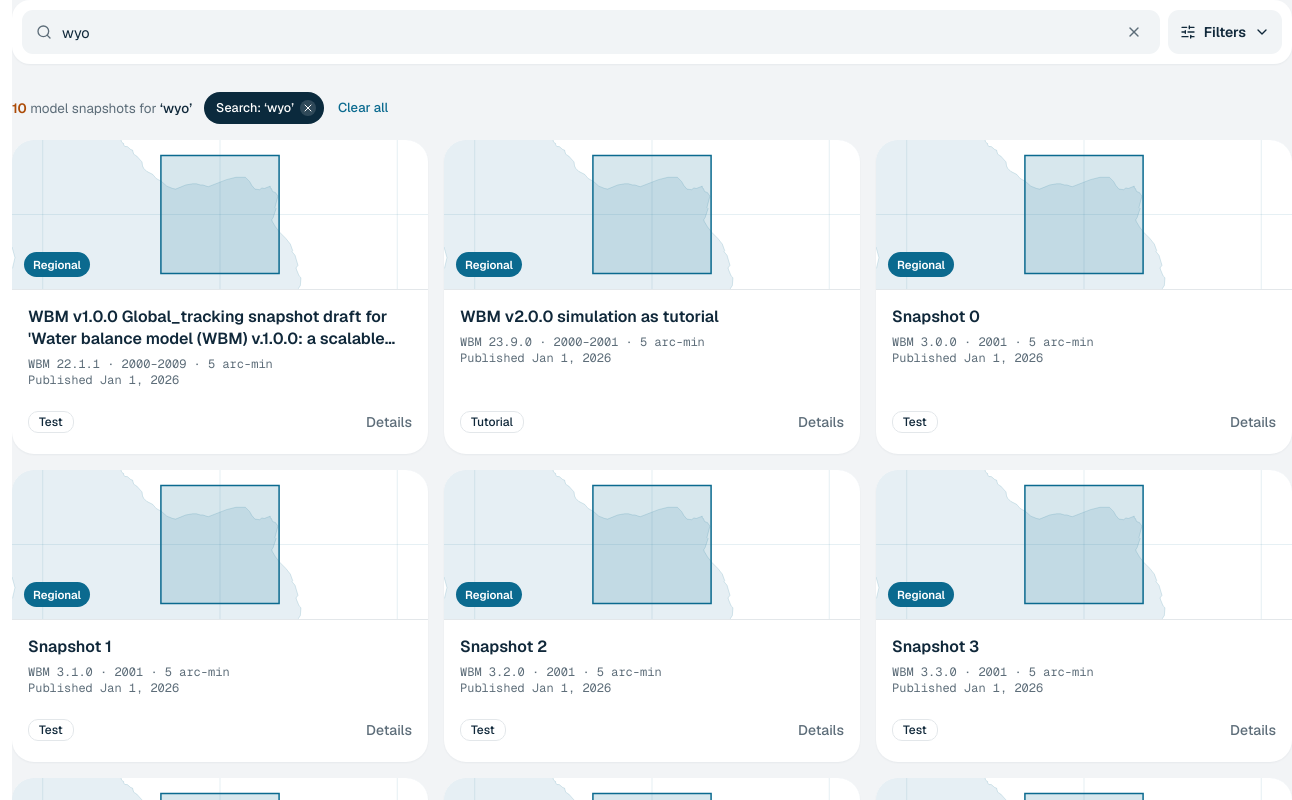
Test: filtering › clears the search box with its own button
The image size is (1292, 800).
Click the button named "Clear search": [1134, 32] box [1114,12,1154,52]
Wait 300 ms
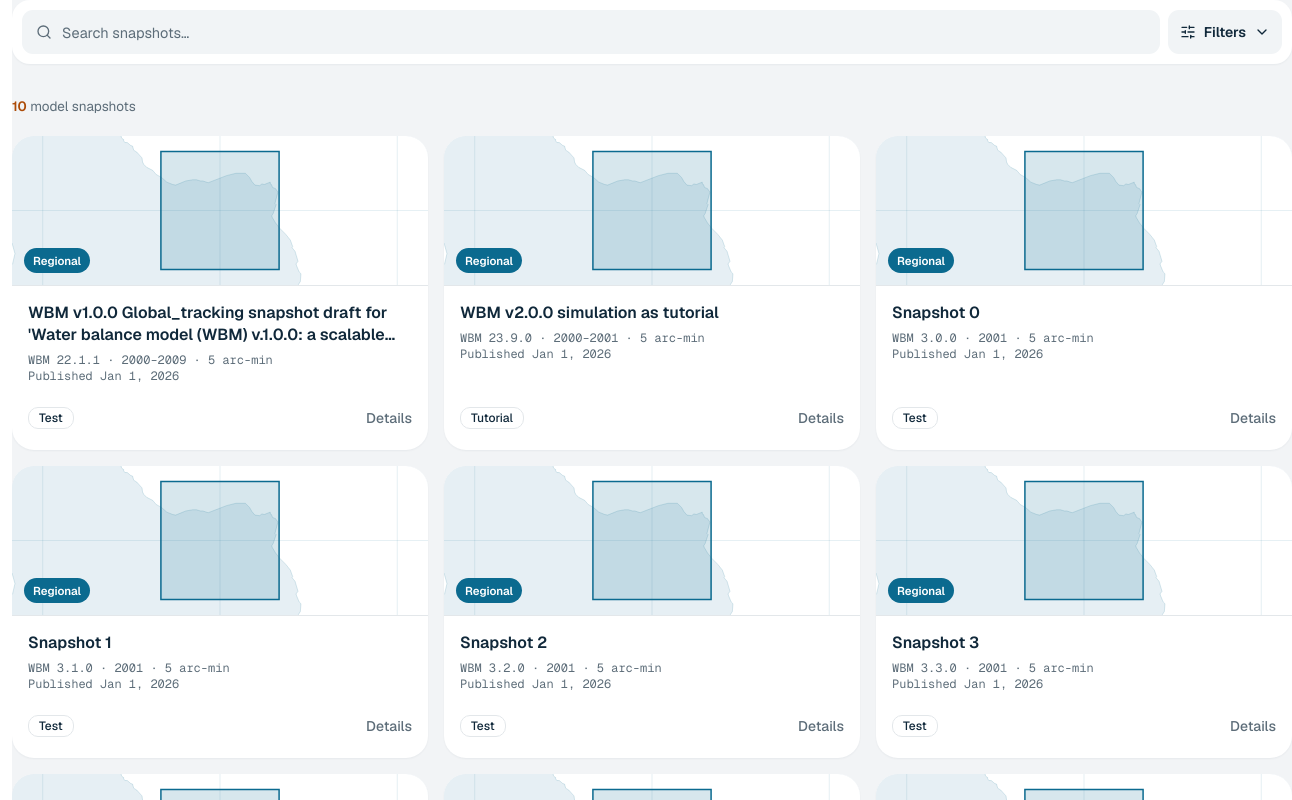
Result: the search field is empty at [62,10,1146,54]
